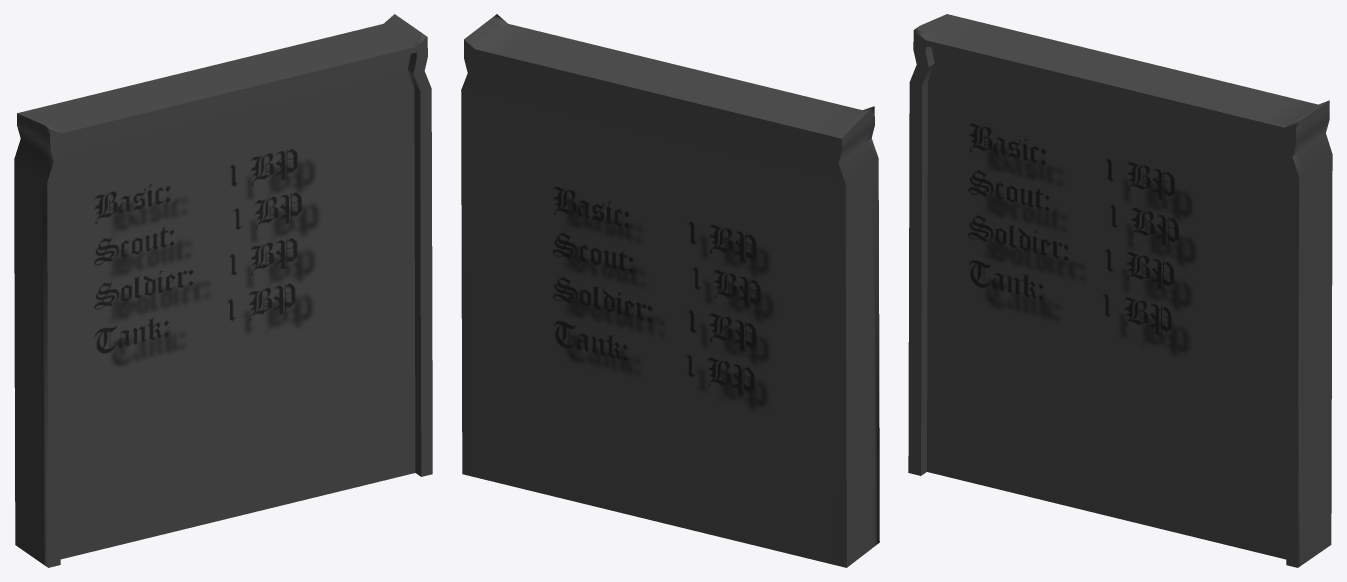
The model's file is BP_SHOP_SCREEN.fbx.
3 views of the same model, side by side, from view 1: azimuth 30°, elevation 25°; view 2: azimuth 150°, elevation 25°; view 3: azimuth 330°, elevation 25° (orthographic).
Visible parts, largest first — view 1: pCube12; view 2: pCube12; view 3: pCube12.
Part boxes in pixels (x1,y1,x2,y2): pCube12: [14, 14, 432, 567]; pCube12: [461, 14, 879, 567]; pCube12: [908, 14, 1332, 567].
Size of the model in its own units: 7.43 by 8.09 by 1.17.
